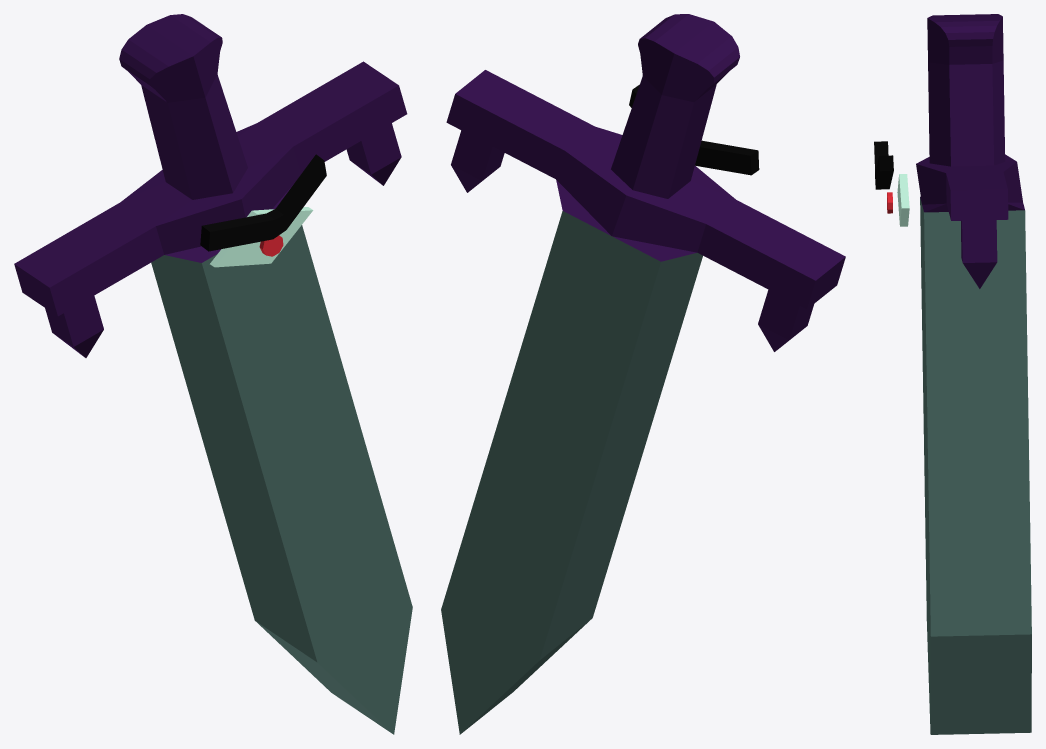
File: sword test1.fbx
3 views of the same model, side by side, from view 1: azimuth 30°, elevation 25°; view 2: azimuth 150°, elevation 25°; view 3: azimuth 270°, elevation 25° (orthographic). The views are drawn at different scales.
Visible parts, largest first — view 1: Cube.001; view 2: Cube.001; view 3: Cube.001.
Boxes of the visible parts, x1,y1,x2,y2 form: Cube.001: (14, 14, 412, 734); Cube.001: (441, 14, 845, 734); Cube.001: (874, 14, 1031, 734).
Bounding box in the file's own units: 344 × 653 × 147.
